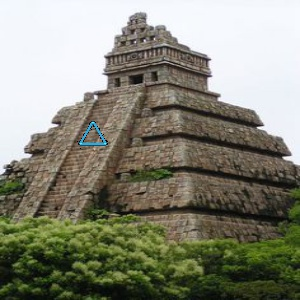triangle: (76, 119, 108, 149)
